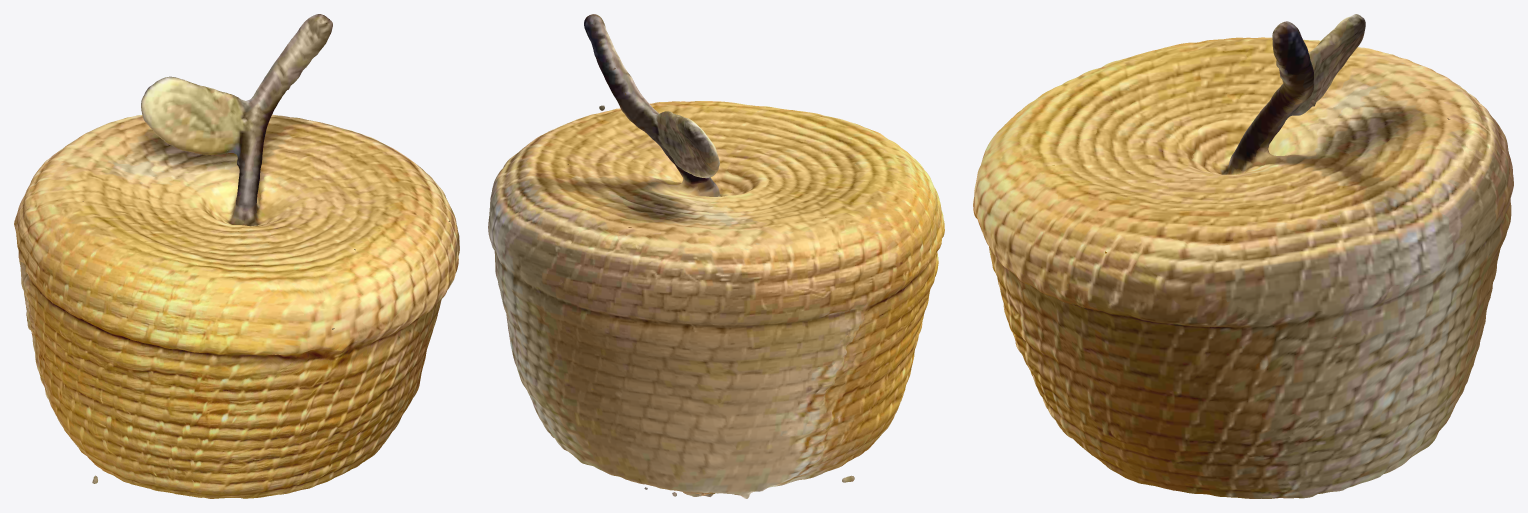
Rendered from tortillero.gltf.
The picture shows the model from 3 angles, left to right: view 1: azimuth 30°, elevation 25°; view 2: azimuth 150°, elevation 25°; view 3: azimuth 270°, elevation 25°; orthographic projection. The views are drawn at different scales.
Parts seen in each view (by area): view 1: Mesh_0; view 2: Mesh_0; view 3: Mesh_0.
Part boxes in pixels (x1,y1,x2,y2): Mesh_0: (14, 14, 459, 498); Mesh_0: (488, 14, 944, 498); Mesh_0: (973, 14, 1513, 498).
Size of the model in its own units: 2.36 by 2.4 by 2.44.
1 material, 1 textured.
